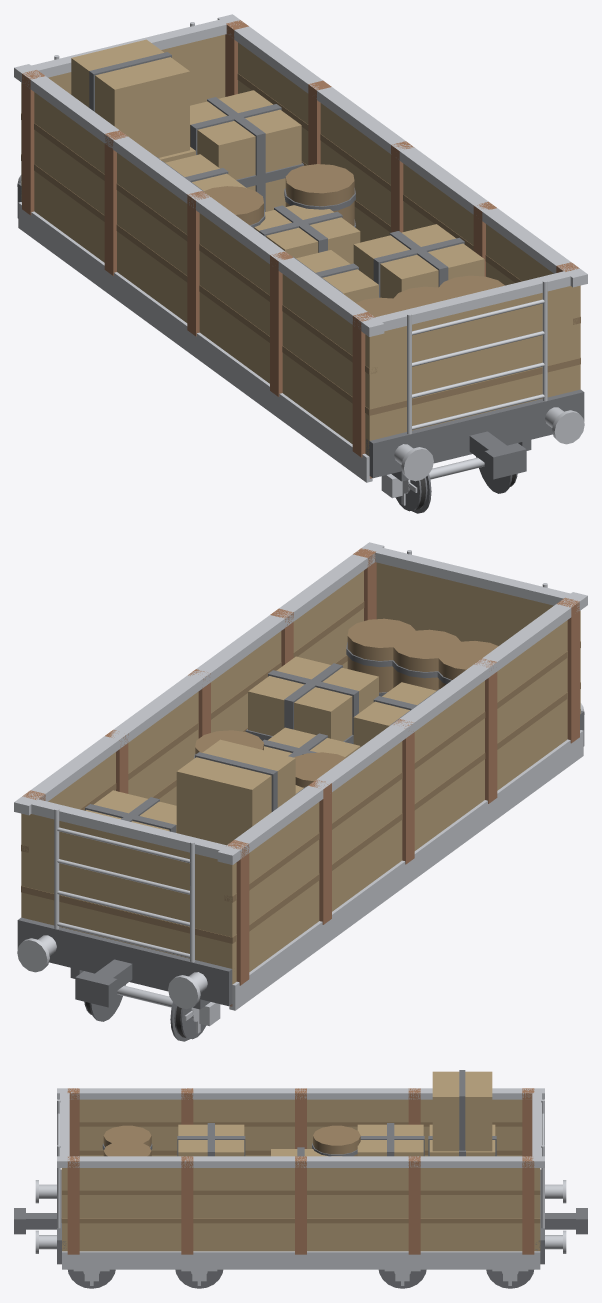
File: train_freight_wagon.glb
3 views of the same model, one above another, from view 1: azimuth 30°, elevation 25°; view 2: azimuth 150°, elevation 25°; view 3: azimuth 270°, elevation 25° (orthographic). The views are drawn at different scales.
Parts seen in each view (by area): view 1: body, cargo, wheel_6; view 2: body, cargo, wheel_0; view 3: body, cargo, wheel_3, wheel_5, wheel_1, wheel_7.
Part boxes in pixels (x1,y1,x2,y2): body: [14, 14, 587, 498]; cargo: [71, 39, 504, 317]; wheel_6: [395, 474, 431, 513]; body: [14, 542, 587, 1026]; cargo: [85, 618, 498, 845]; wheel_0: [170, 1002, 206, 1041]; body: [14, 1088, 587, 1281]; cargo: [102, 1070, 496, 1156]; wheel_3: [378, 1269, 426, 1288]; wheel_5: [175, 1269, 223, 1288]; wheel_1: [486, 1269, 533, 1288]; wheel_7: [68, 1269, 115, 1288].
Size of the model in its own units: 1.45 by 1.61 by 4.8.
